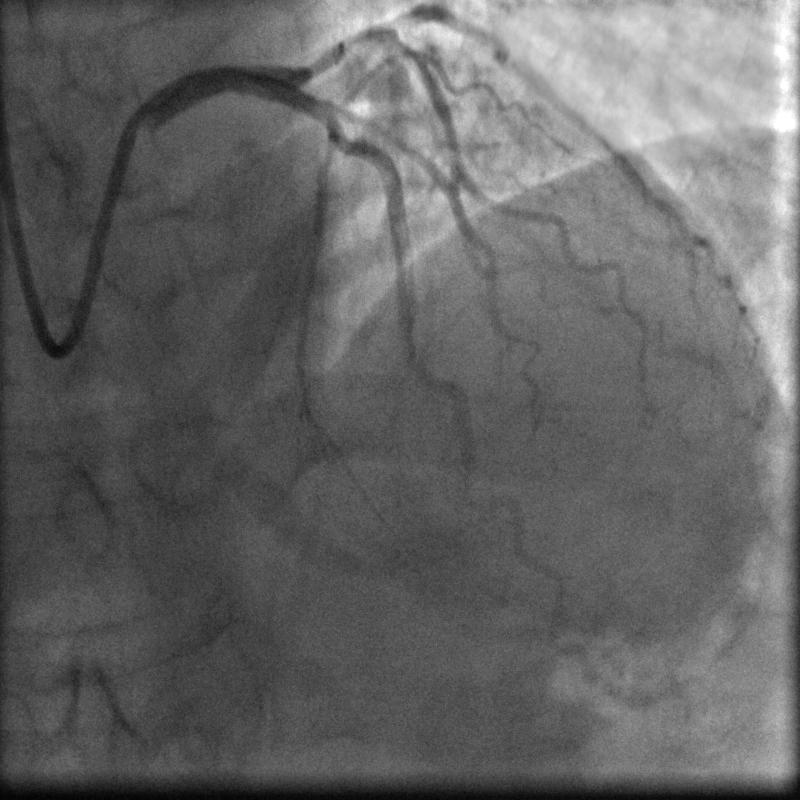Stenosis: (283, 35, 356, 78)
